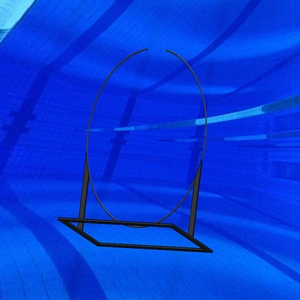circle: (58, 46, 215, 255)
